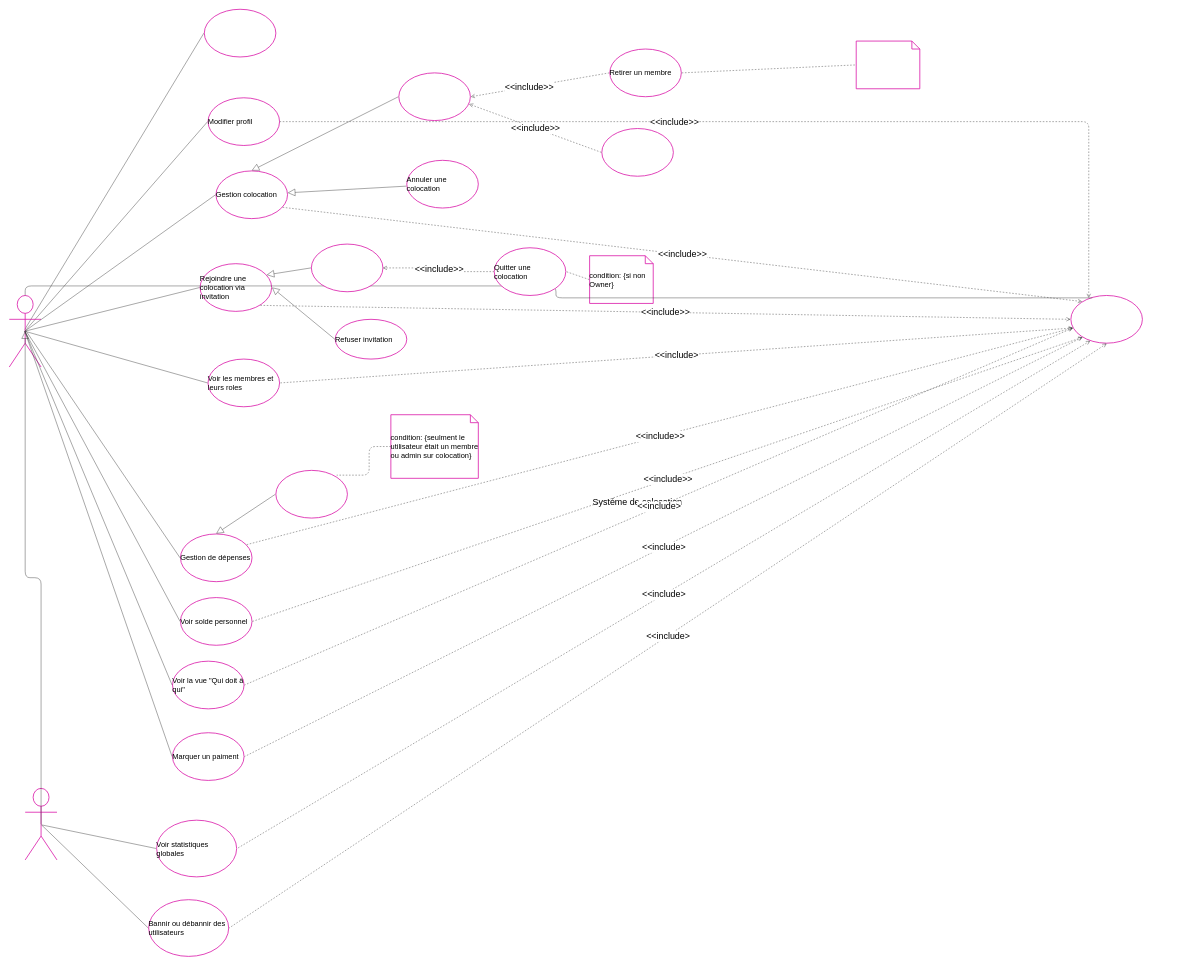
This 1183x966 diagram has some shape labels left out. Each missing label, with the box of its shape:
Accepter invitation: (311, 243, 383, 292)
Ajouter une dépense: (275, 470, 348, 518)
condition: {Absorber la dette d'un membre retiré}: (856, 40, 920, 89)
Créer une colocation: (398, 72, 471, 121)
GlobalAdmin: (25, 788, 57, 860)
Gérer les catégories: (601, 128, 674, 176)
S'authentifier: (1070, 295, 1143, 343)
S'inscrire: (204, 9, 276, 57)
User: (9, 295, 41, 367)
